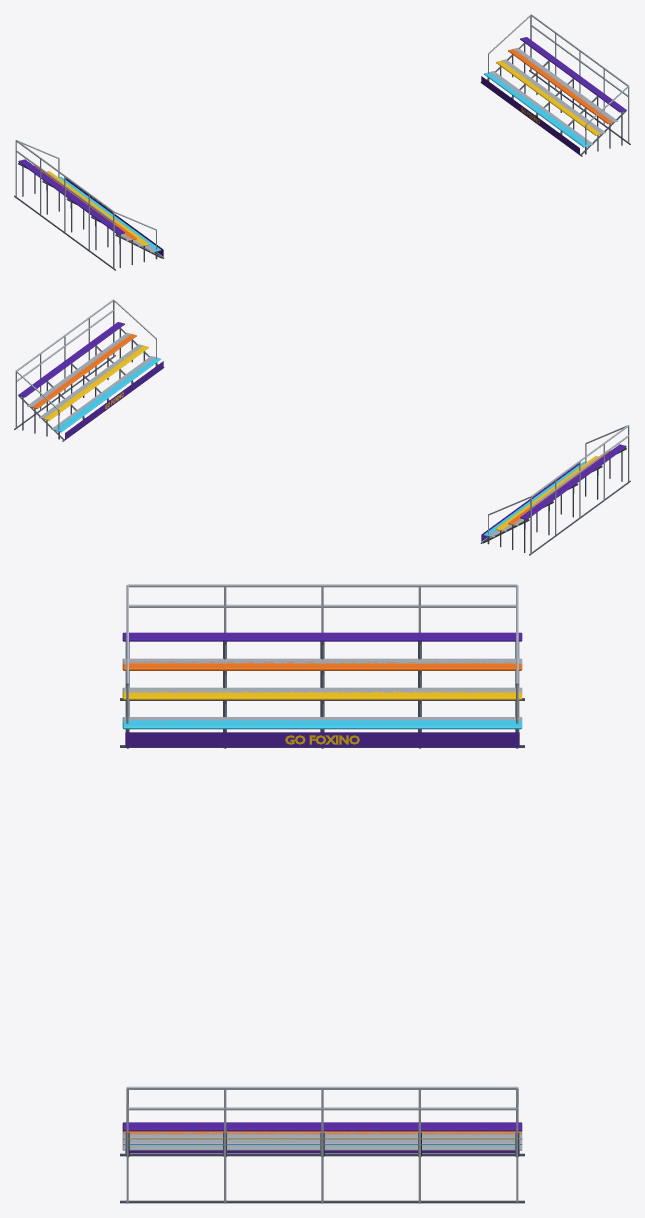
File: sb-bleachers.glb
The picture shows the model from 3 angles, top to bottom: view 1: azimuth 30°, elevation 25°; view 2: azimuth 150°, elevation 25°; view 3: azimuth 270°, elevation 25°; orthographic projection. The views are drawn at different scales.
Visible parts, largest first — view 1: Bleachers; view 2: Bleachers; view 3: Bleachers.
Boxes of the visible parts, x1,y1,x2,y2 form: Bleachers: (14, 14, 630, 270); Bleachers: (14, 299, 630, 555); Bleachers: (120, 584, 524, 1203).
Bounding box in the file's own units: 23.56 × 2.58 × 8.
